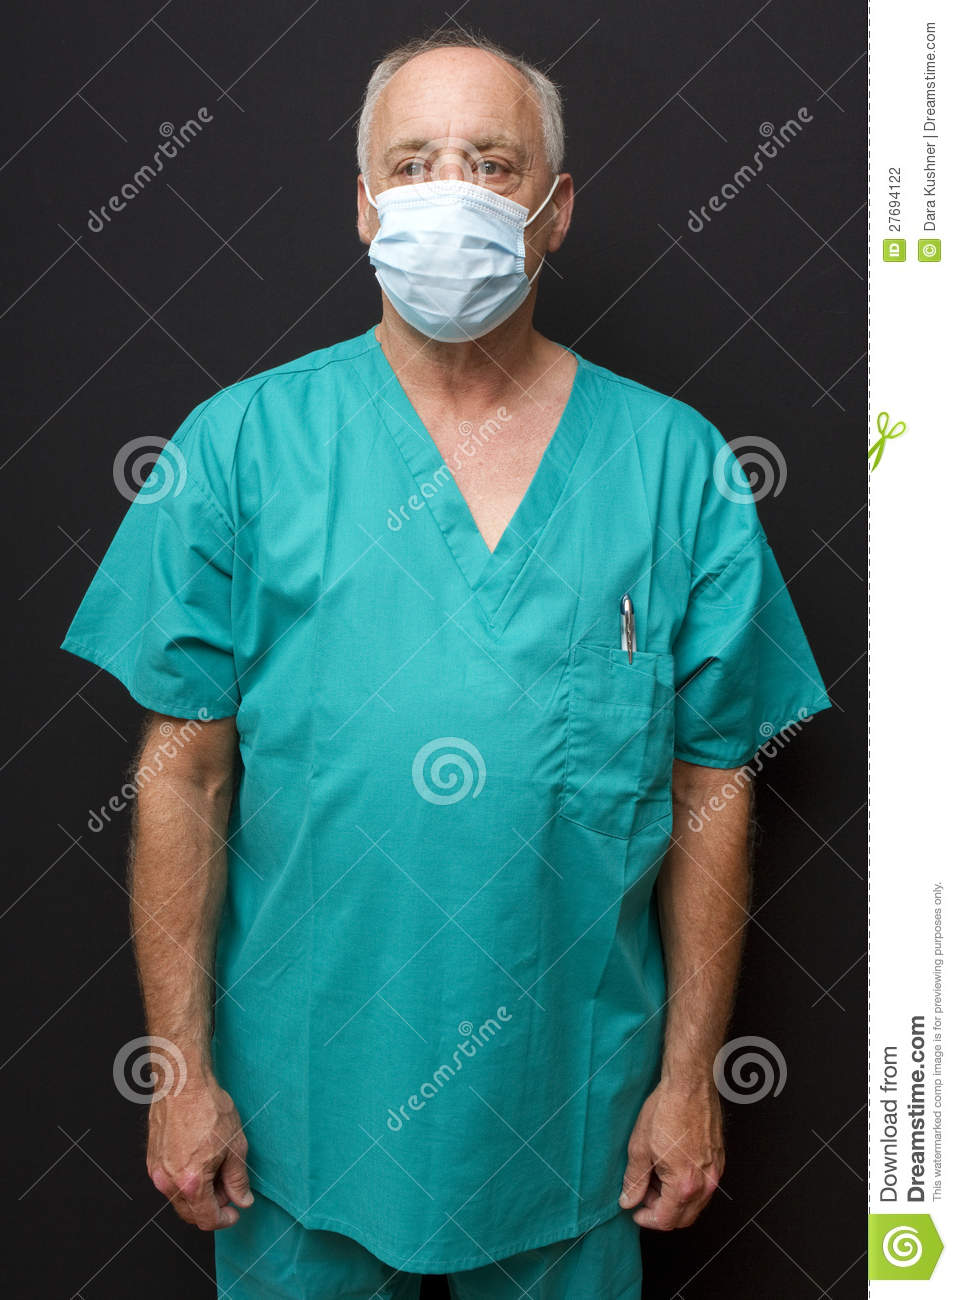mask: (365, 185, 532, 344)
